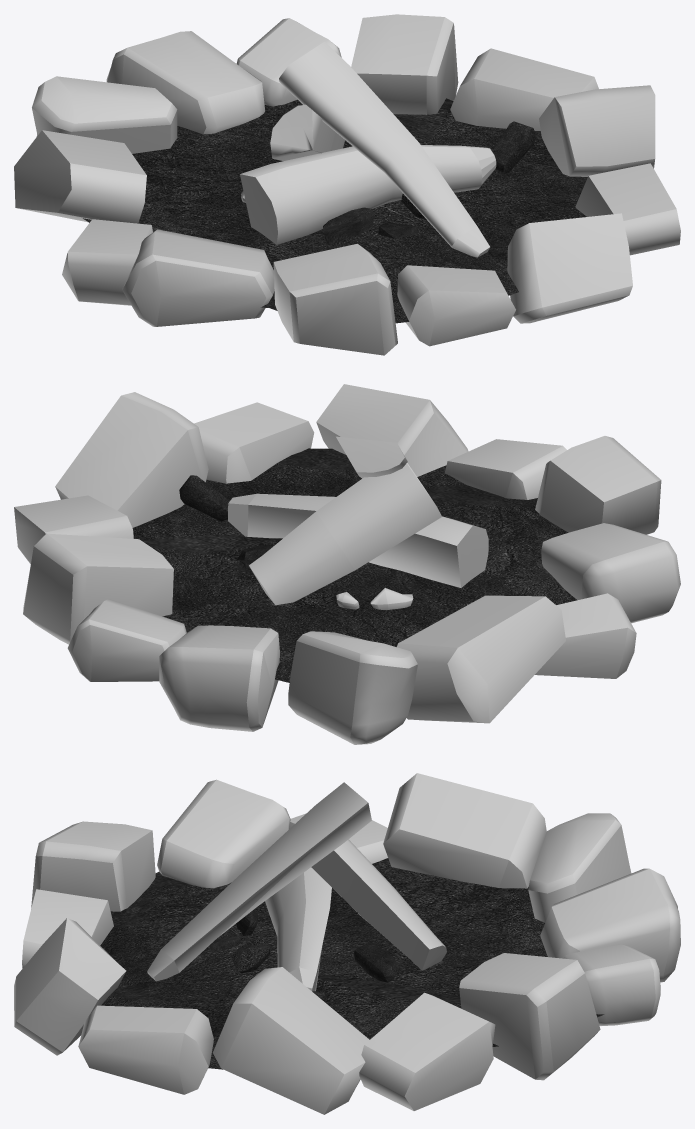
File: fire camp.fbx
3 views of the same model, one above another, from view 1: azimuth 30°, elevation 25°; view 2: azimuth 150°, elevation 25°; view 3: azimuth 270°, elevation 25° (orthographic).
Parts seen in each view (by area): view 1: fire_camp; view 2: fire_camp; view 3: fire_camp.
Boxes of the visible parts, x1,y1,x2,y2 form: fire_camp: (14,14,680,355); fire_camp: (14,384,680,744); fire_camp: (14,773,680,1114).
Bounding box in the file's own units: 2.72 × 0.8844 × 2.7.
